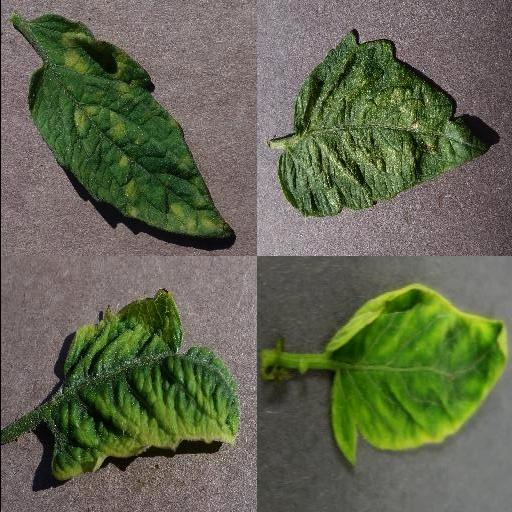Leaf Mold: (26, 15, 232, 241)
Spider Mites: (276, 32, 492, 218)
Yellow Leaf Curl Virus: (48, 288, 242, 480), (321, 285, 509, 464)
